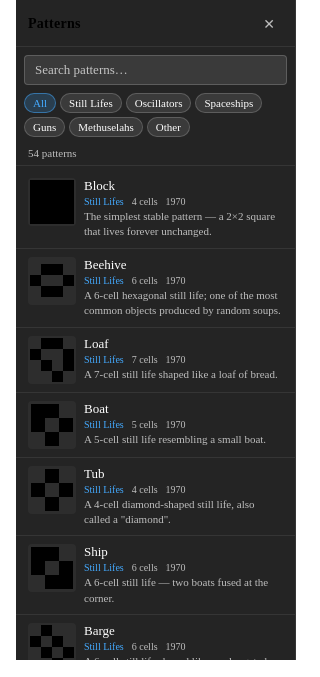
Test: PatternLibrary — category filters › category filter combined with search narrows results further
Click the button "Spaceships".
click(229, 103)  # box [195,93,262,113]
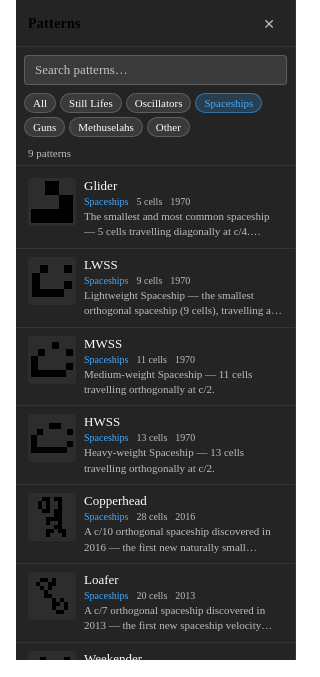
Type "glider" into the search field with placeholder "Search patterns…".
click(156, 70); type("glider")  # box [24,55,287,85]
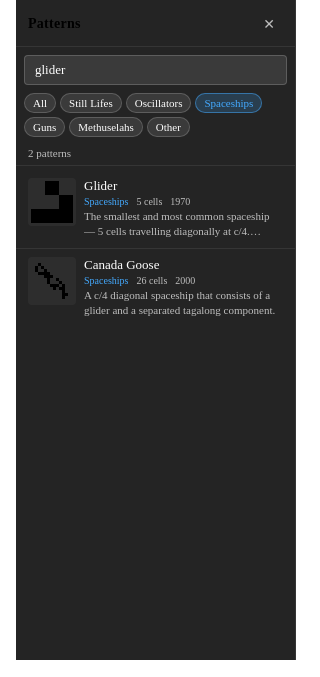
Expected: the number of list items is 2, [16,170,295,249]; [16,249,295,327]
